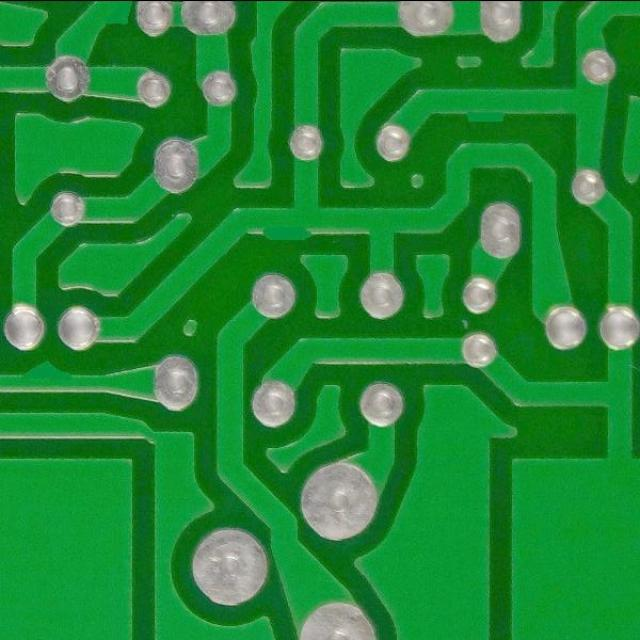Spur: (14, 351, 81, 400), (254, 202, 322, 248), (454, 81, 516, 130), (80, 0, 137, 31)
